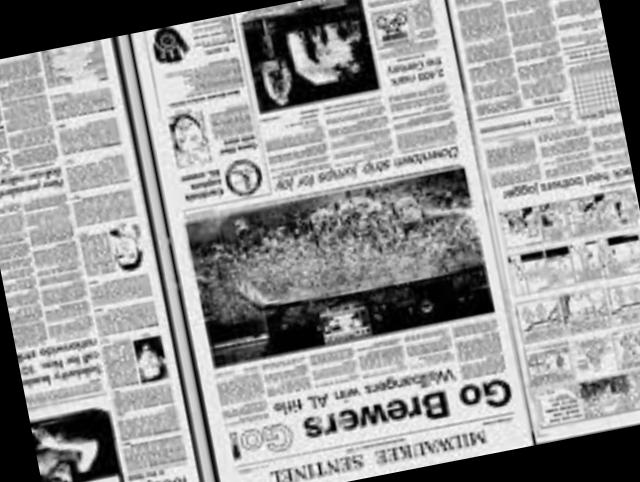cardboard paper: (128, 0, 532, 482), (0, 36, 201, 482), (447, 0, 640, 443)
